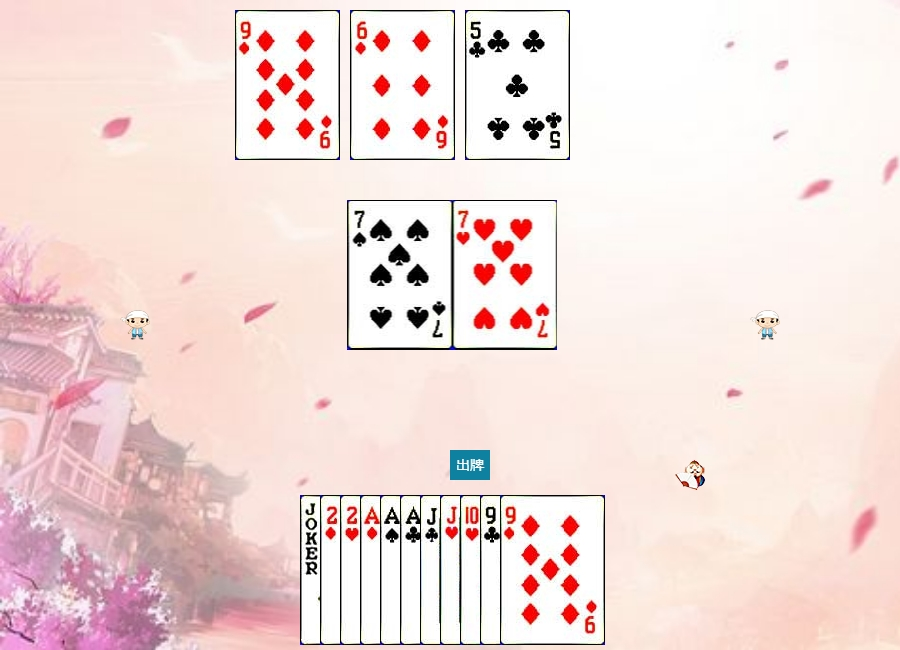10~3: (460, 495, 565, 645)
11~2: (420, 495, 525, 645)
11~3: (440, 495, 545, 645)
14~1: (360, 495, 465, 645)
14~2: (400, 495, 505, 645)
14~4: (380, 495, 485, 645)
15~1: (320, 495, 425, 645)
15~3: (340, 495, 445, 645)
17~3: (300, 495, 405, 645)
5~2: (465, 10, 570, 160)
6~1: (350, 10, 455, 160)
7~3: (453, 200, 558, 350)
7~4: (348, 200, 453, 350)
9~1: (235, 10, 340, 160), (500, 495, 605, 645)
9~2: (480, 495, 585, 645)
